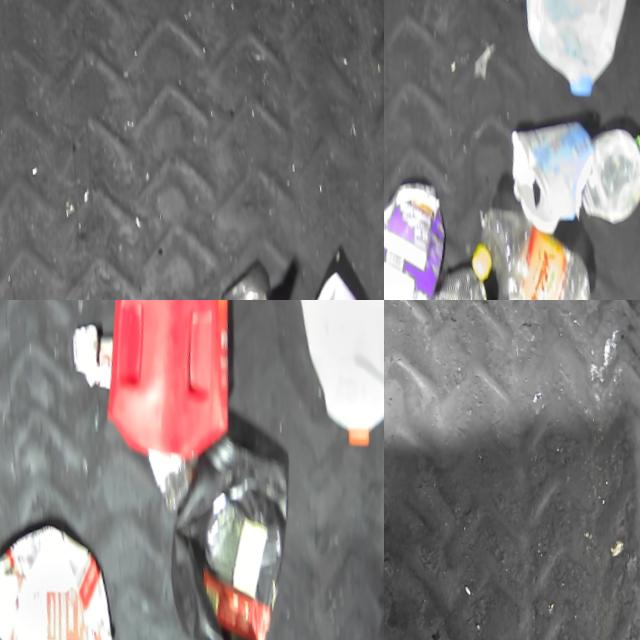can: (435, 260, 504, 300)
milk_jug: (0, 511, 138, 640), (280, 300, 384, 455), (508, 0, 640, 104)
non_white_jug: (152, 417, 330, 640), (81, 300, 270, 466), (384, 172, 467, 300)
plastic_bottle: (462, 189, 611, 300)
